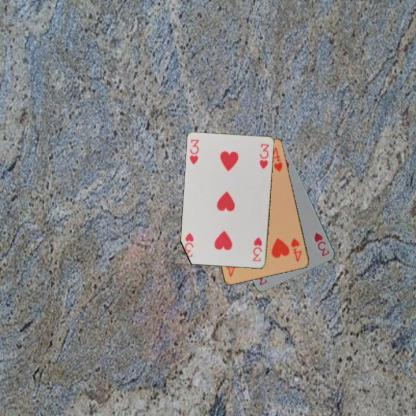3h: (311, 230, 331, 258), (250, 234, 264, 263), (187, 137, 201, 166)
4h: (288, 236, 303, 263)
